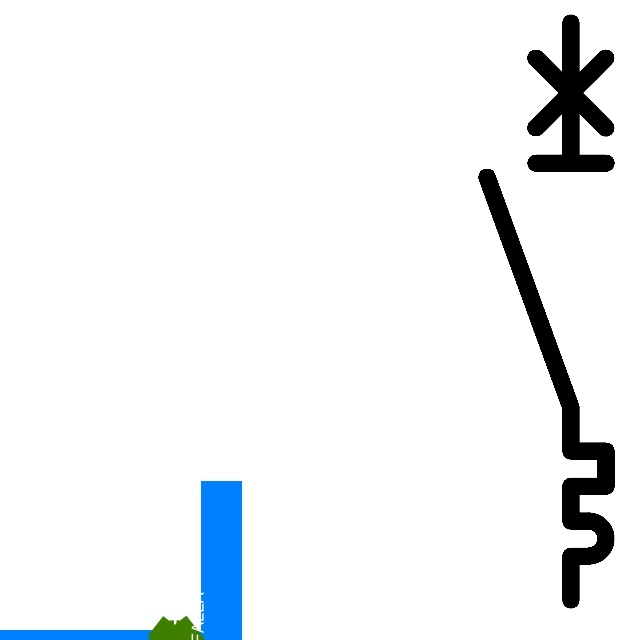interruptor_termomagnetico: (472, 8, 621, 615)
